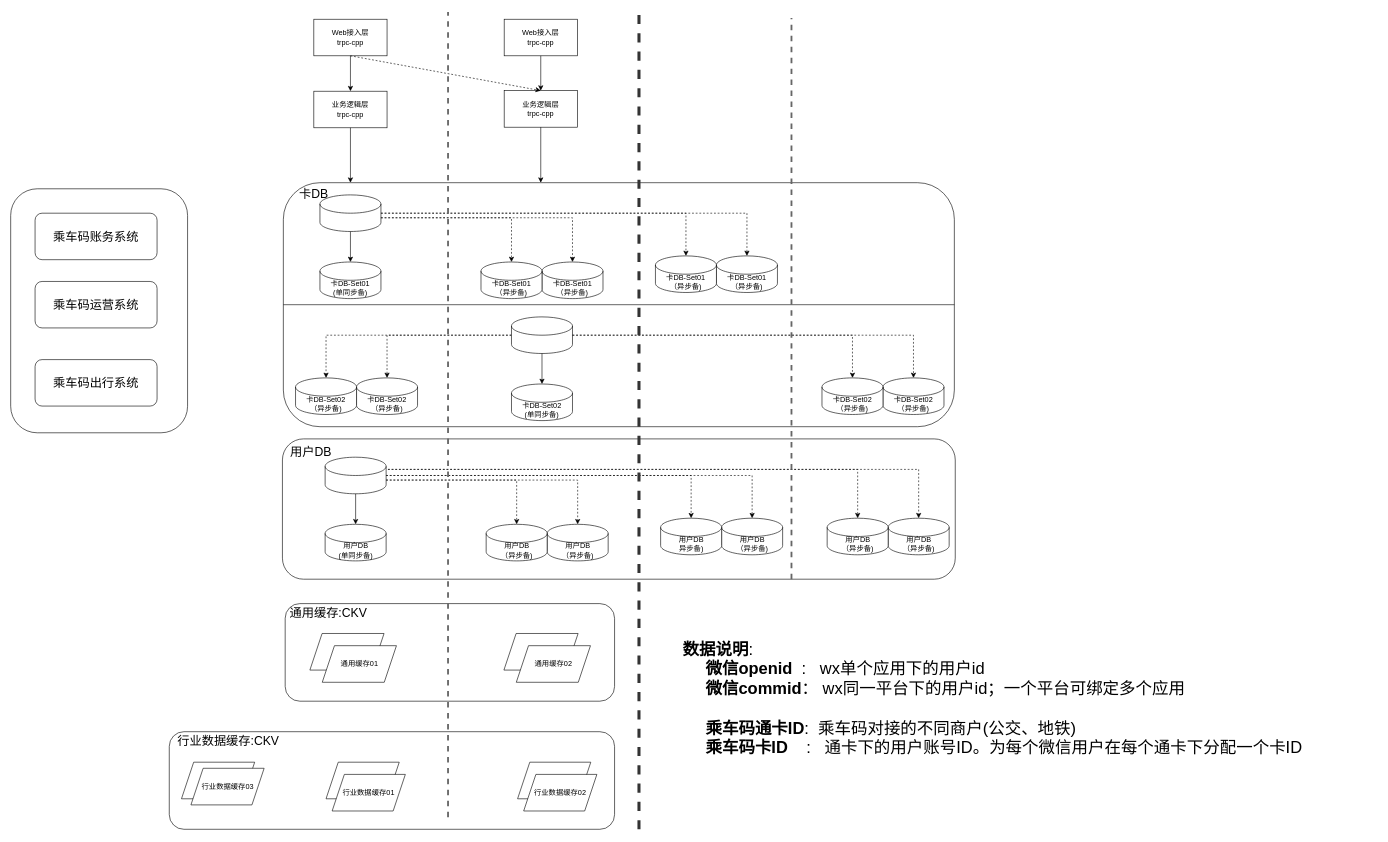
Image size: 1388x842. Some labels were removed from this diagram. Here are the shapes that lost their labels. From the top down, the centre of each, then its label:
At (350,212): "卡DB-Set01 主".
At (541,334): "卡DB-Set02 主".
At (355,475): "用户DB 主".
